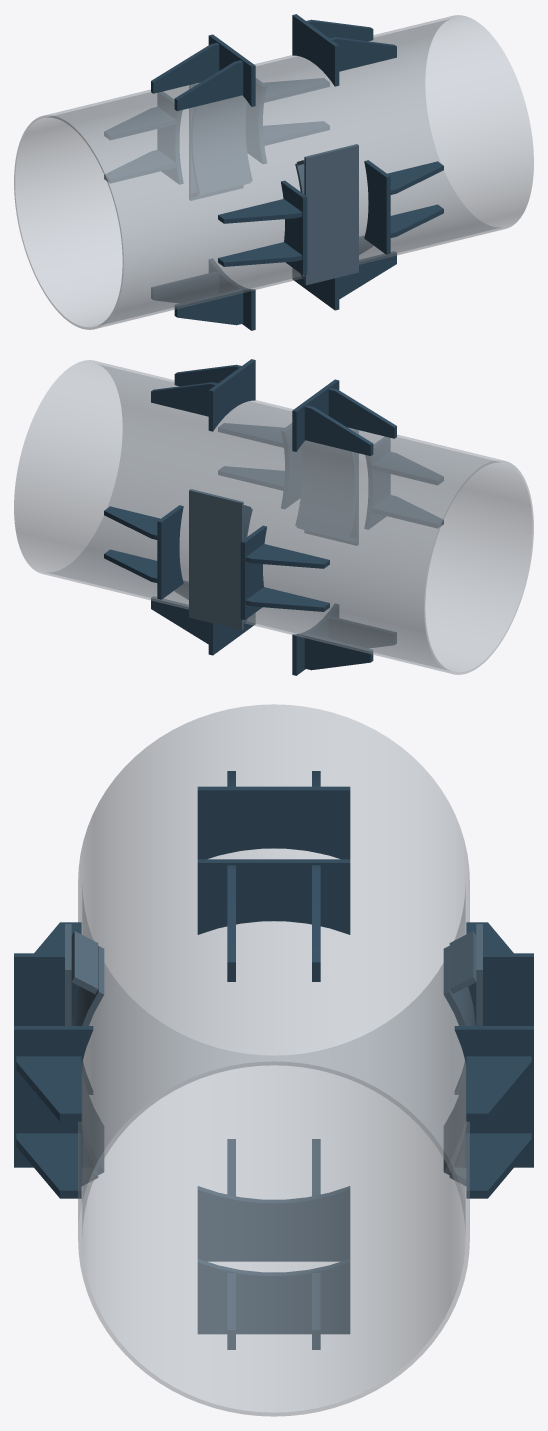
File: TS-668.00.00-17-opora-dn720-ris2.glb
3 renders of one model, top to bottom at view 1: azimuth 30°, elevation 25°; view 2: azimuth 150°, elevation 25°; view 3: azimuth 270°, elevation 25°, orthographic. The views are drawn at different scales.
Visible parts, largest first — view 1: truba, bok_26, bok_29, upor_7, upor_1, upor_6, upor_5, upor_17, upor_10, upor_3, upor_18, upor_22 (+15 smaller); view 2: truba, bok_30, bok_25, upor_19, upor_1, upor_5, upor_6, upor_18, upor_22, upor_2, upor_17, upor_10 (+15 smaller); view 3: truba, upor_4, upor_16, upor_1, upor_13, upor_7, upor_19, upor_10, upor_22, upor_8, upor_21, upor_9 (+7 smaller).
Boxes of the visible parts, left/top/right/bottom form: truba: left=14, top=15, right=533, bottom=329; bok_26: left=304, top=144, right=358, bottom=285; bok_29: left=191, top=96, right=252, bottom=193; upor_7: left=364, top=160, right=390, bottom=254; upor_1: left=292, top=14, right=339, bottom=86; upor_6: left=174, top=60, right=243, bottom=111; upor_5: left=151, top=43, right=219, bottom=93; upor_17: left=174, top=289, right=243, bottom=325; upor_10: left=281, top=180, right=307, bottom=274; upor_3: left=330, top=37, right=396, bottom=71; upor_18: left=151, top=271, right=218, bottom=303; upor_22: left=157, top=92, right=183, bottom=184; truba: left=14, top=360, right=533, bottom=674; bok_30: left=189, top=489, right=243, bottom=630; bok_25: left=295, top=441, right=356, bottom=538; upor_19: left=157, top=505, right=183, bottom=599; upor_1: left=208, top=359, right=255, bottom=431; upor_5: left=304, top=405, right=373, bottom=456; upor_6: left=328, top=388, right=396, bottom=438; upor_18: left=304, top=634, right=373, bottom=670; upor_22: left=240, top=525, right=266, bottom=619; upor_2: left=151, top=382, right=217, bottom=416; upor_17: left=329, top=616, right=396, bottom=648; upor_10: left=364, top=437, right=390, bottom=529; truba: left=78, top=704, right=469, bottom=1416; upor_4: left=197, top=786, right=350, bottom=859; upor_16: left=197, top=1186, right=350, bottom=1261; upor_1: left=197, top=859, right=350, bottom=934; upor_13: left=197, top=1259, right=350, bottom=1334; upor_7: left=14, top=1026, right=93, bottom=1167; upor_19: left=454, top=1026, right=533, bottom=1167; upor_10: left=14, top=953, right=92, bottom=1094; upor_22: left=455, top=953, right=533, bottom=1094; upor_8: left=16, top=1056, right=81, bottom=1121; upor_21: left=466, top=1056, right=531, bottom=1121; upor_9: left=16, top=1133, right=81, bottom=1198.
Size of the model in its own units: 1552 by 955 by 955.
